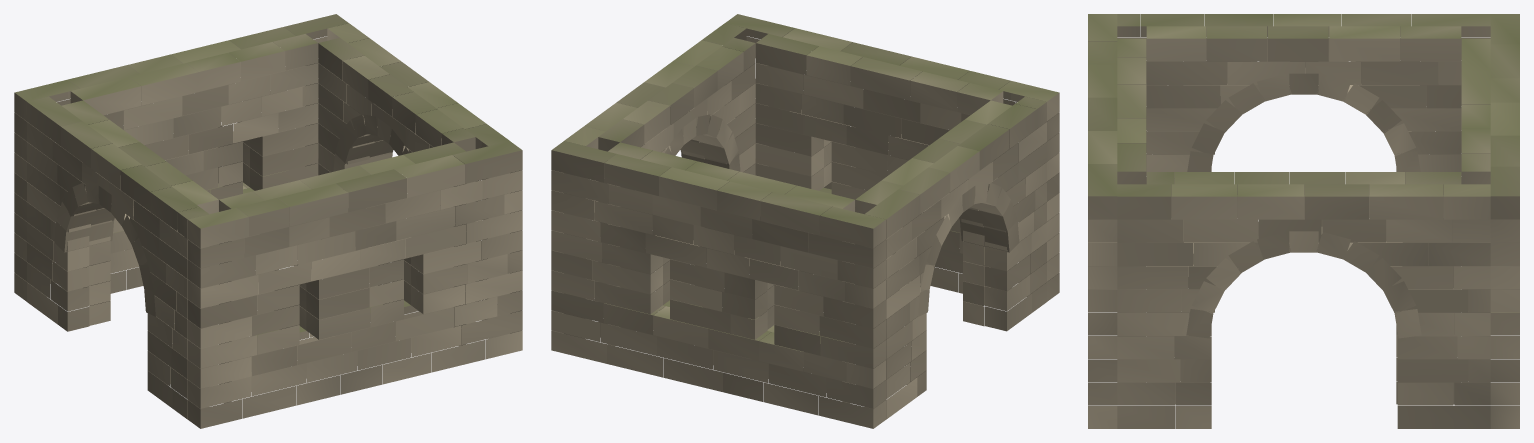
File: citadel_tower_storey_mid.glb
3 renders of one model, left to right at view 1: azimuth 30°, elevation 25°; view 2: azimuth 150°, elevation 25°; view 3: azimuth 270°, elevation 25°, orthographic. The views are drawn at different scales.
Parts seen in each view (by area): view 1: citadel_tower_storey_mid; view 2: citadel_tower_storey_mid; view 3: citadel_tower_storey_mid.
Part boxes in pixels (box(x1,y1,x2,y2)): citadel_tower_storey_mid: box(14, 14, 522, 428); citadel_tower_storey_mid: box(551, 14, 1059, 428); citadel_tower_storey_mid: box(1088, 14, 1519, 428).
Bounding box in the file's own units: 37.5 × 21.97 × 37.
